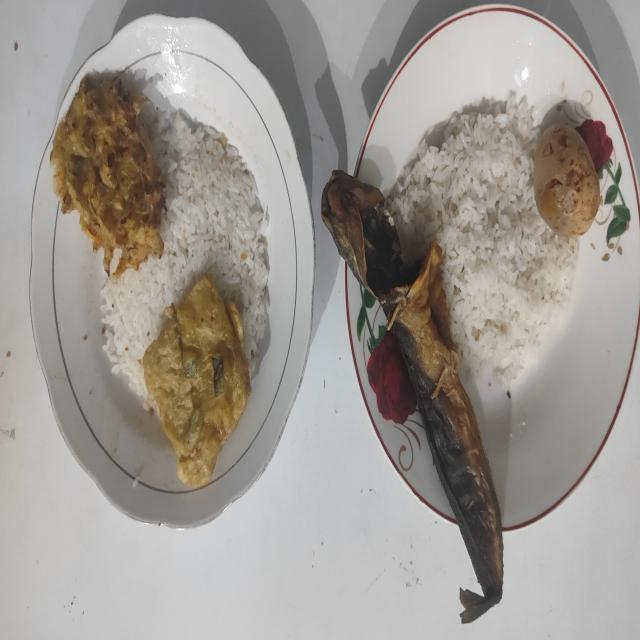nasi_putih: (386, 91, 579, 385), (102, 104, 270, 395)
